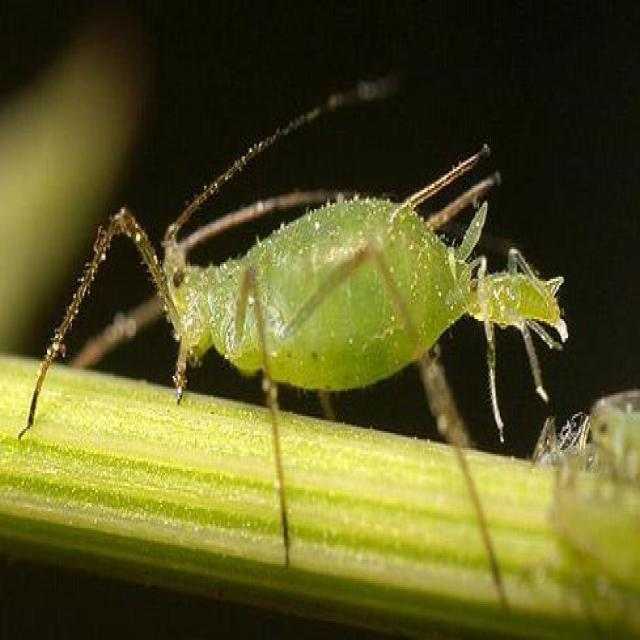aphid: (56, 93, 584, 460)
